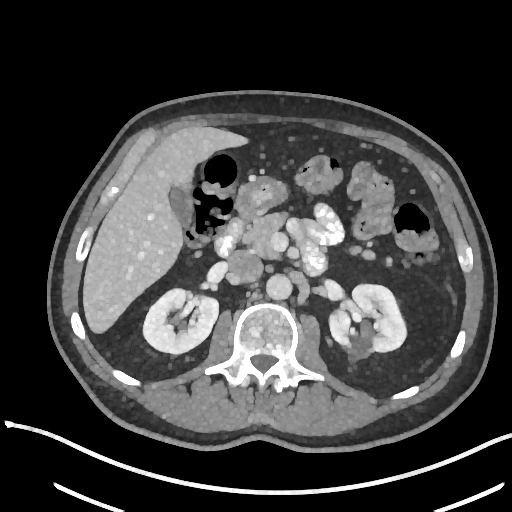Lesion: (343, 317, 376, 367)
